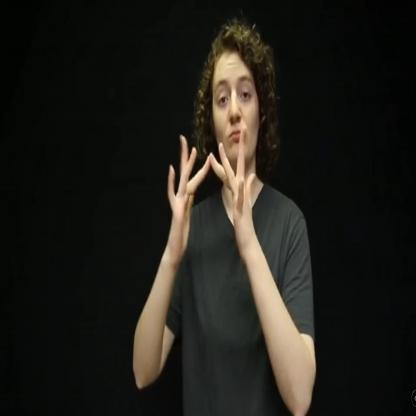Internet: (163, 121, 259, 262)
